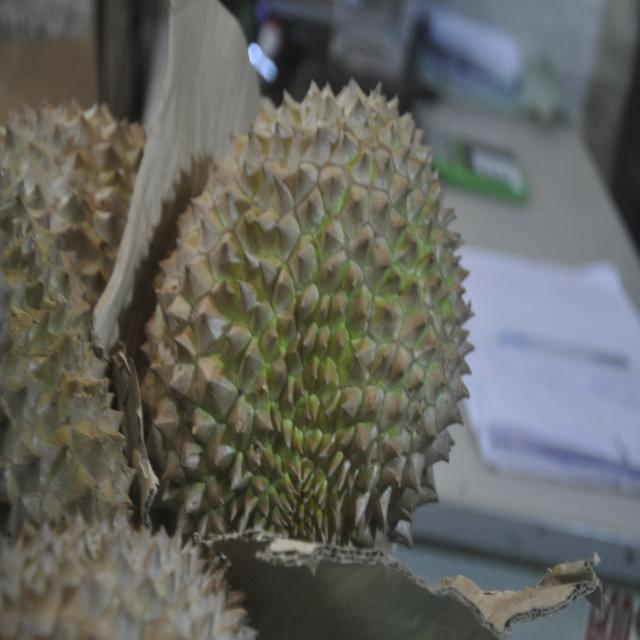mature: (131, 73, 476, 563)
